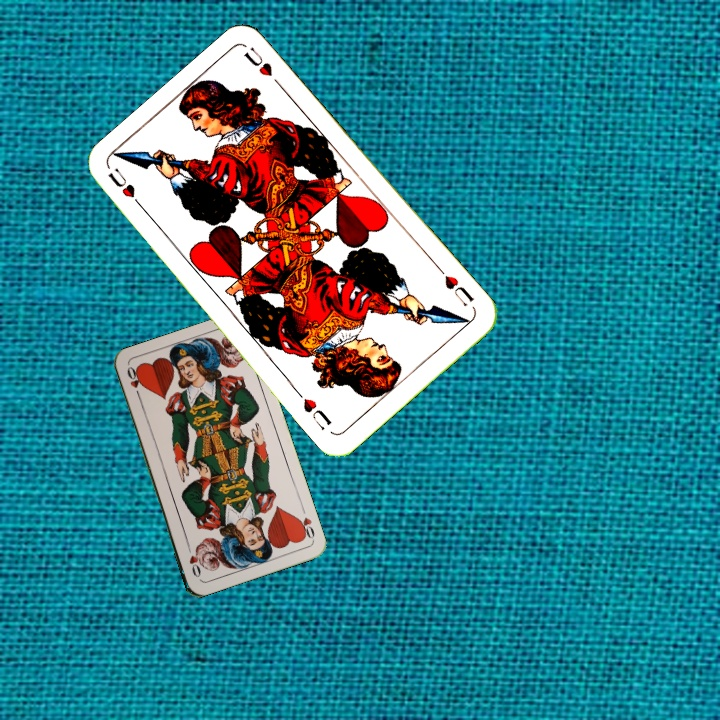HO: (293, 503, 317, 542), (123, 362, 144, 402)
HU: (103, 163, 148, 214), (434, 263, 477, 310)
